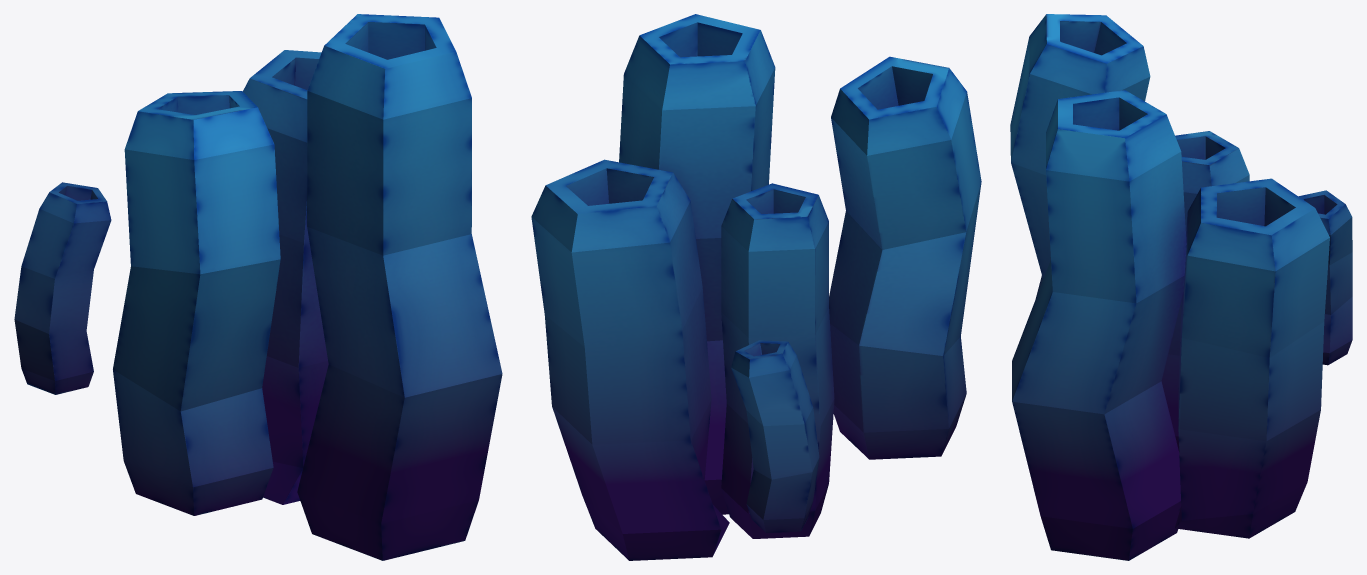
The model's file is Corals.fbx.
3 views of the same model, side by side, from view 1: azimuth 30°, elevation 25°; view 2: azimuth 150°, elevation 25°; view 3: azimuth 270°, elevation 25° (orthographic). The views are drawn at different scales.
Parts seen in each view (by area): view 1: Blue Corals; view 2: Blue Corals; view 3: Blue Corals.
Boxes of the visible parts, left/top/right/bottom form: Blue Corals: left=14, top=14, right=502, bottom=560; Blue Corals: left=531, top=14, right=981, bottom=560; Blue Corals: left=1010, top=14, right=1352, bottom=560.
Bounding box in the file's own units: 155 × 201 × 148.
1 material, 1 textured.
